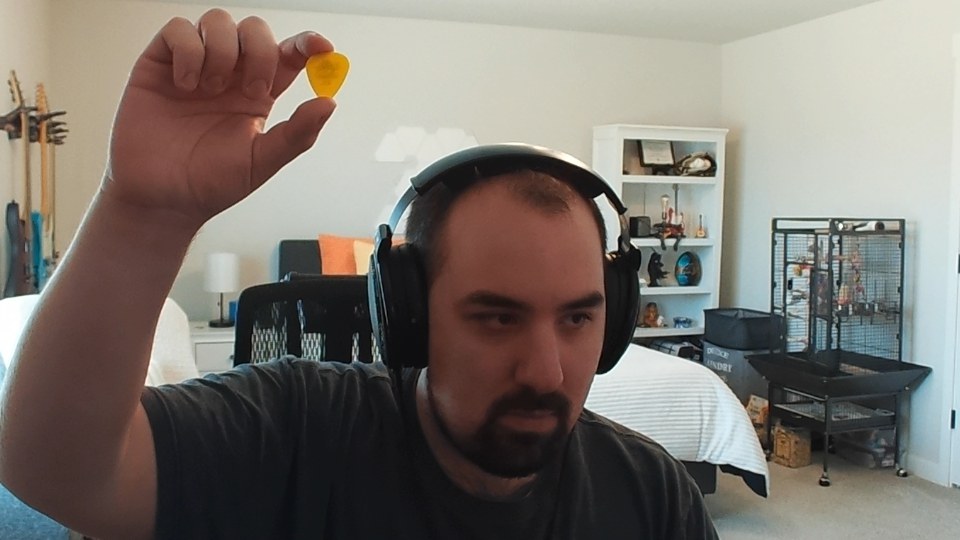GuitarPick: (305, 51, 350, 99)
